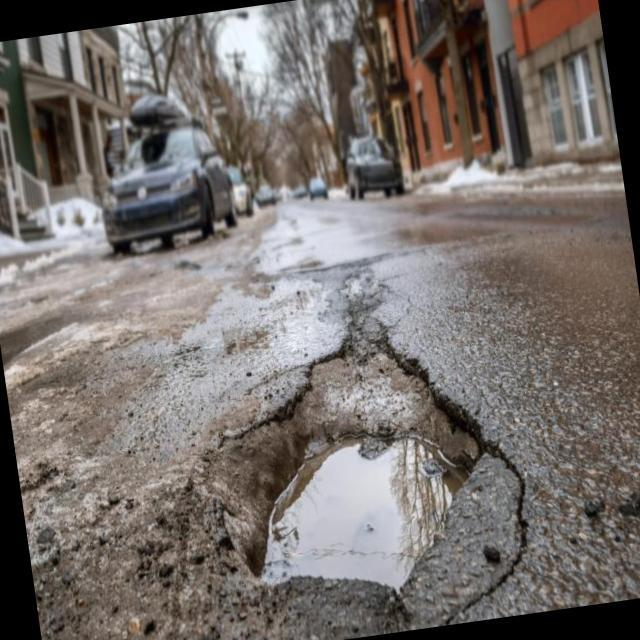Pothole: (182, 352, 480, 587)
